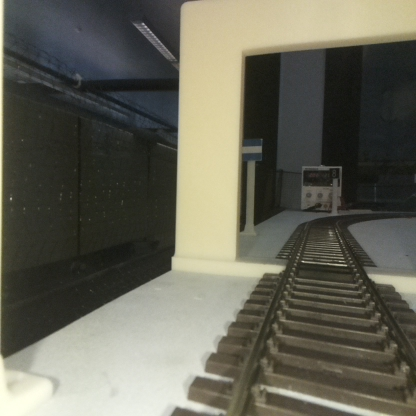start: (240, 140, 262, 233)
